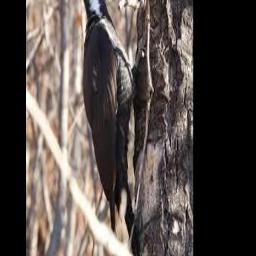Woodpecker: (73, 0, 138, 256)
